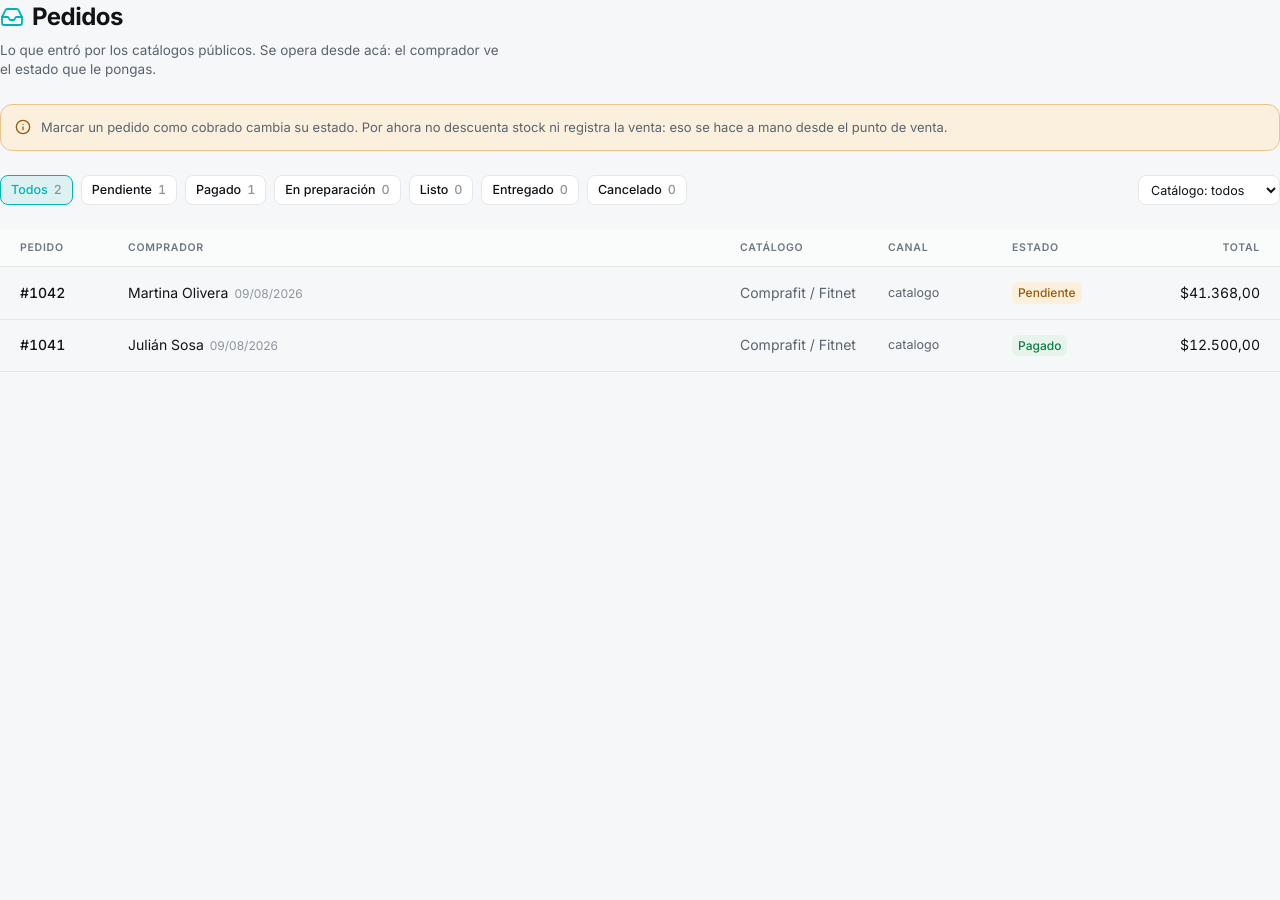
it: el panel lateral › sin `pedidos.gestionar` no hay botones de estado, y se dice por qué
Step 1. Click the button that starts with "Martina Olivera" → click(43, 292), box left=0, top=267, right=1279, bottom=320
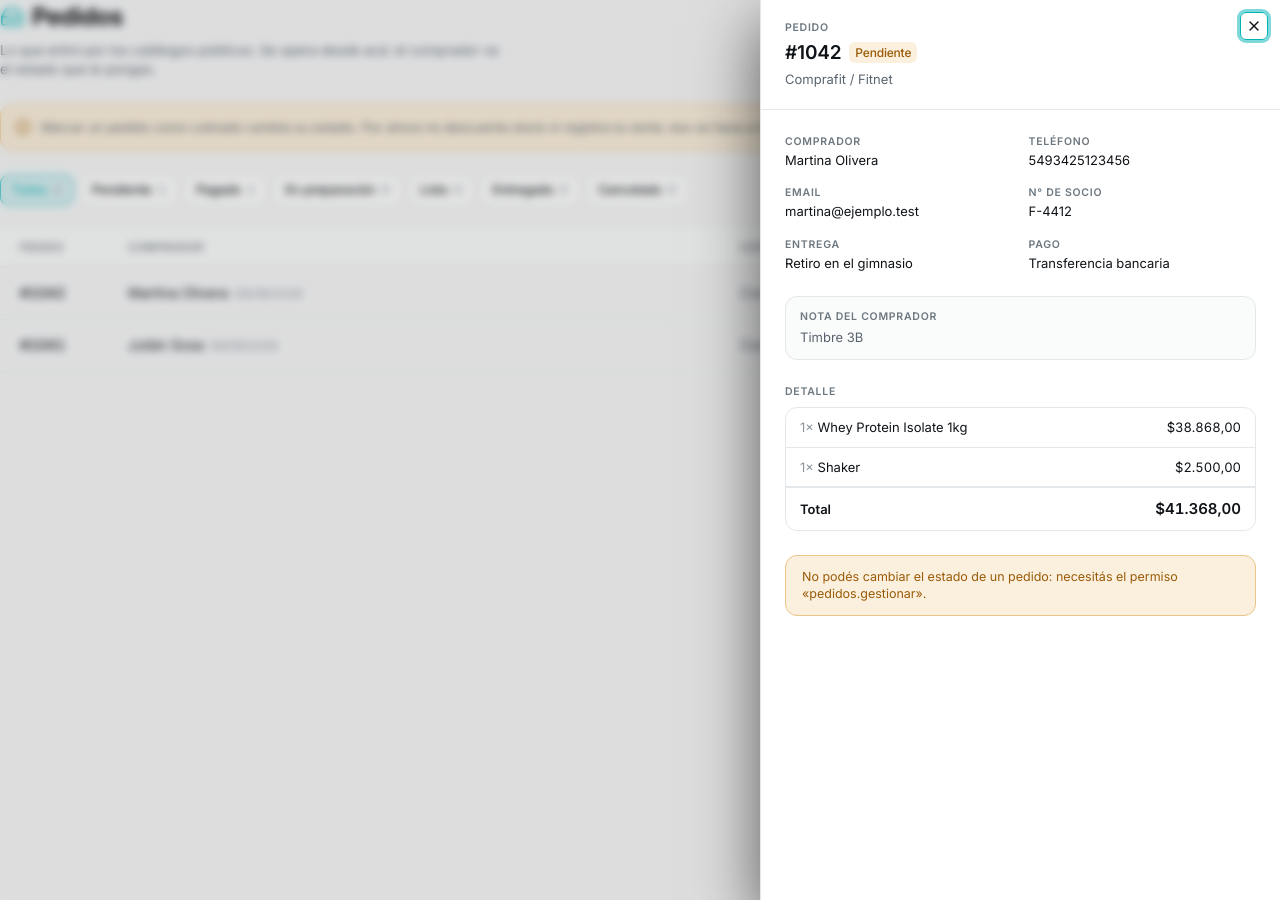
Result: the text "No podés cambiar el estado de un pedido" is shown at left=802, top=568, right=1056, bottom=584
